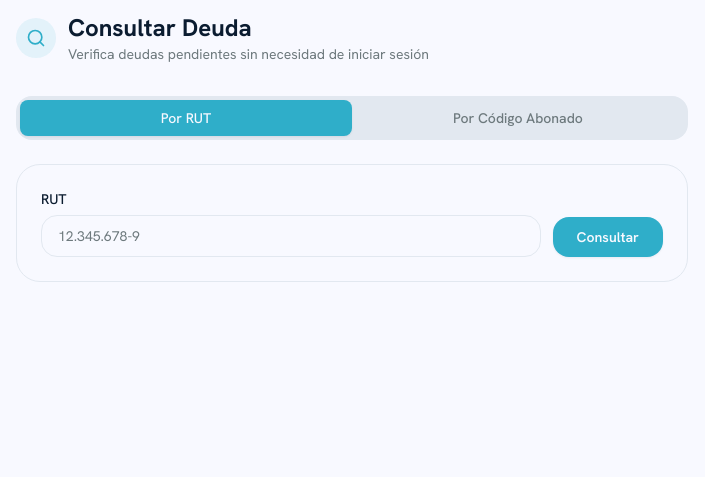
Test case: DeudaLookupForm (CU-39/CU-40) › muestra "no encontrado" si el RUT no existe (CU-39 Excepción 3)
This screenshot has width=705, height=477.
Type "99999999-9" into the field with placeholder "12.345.678-9". click: (291, 236)
box: left=41, top=215, right=540, bottom=257
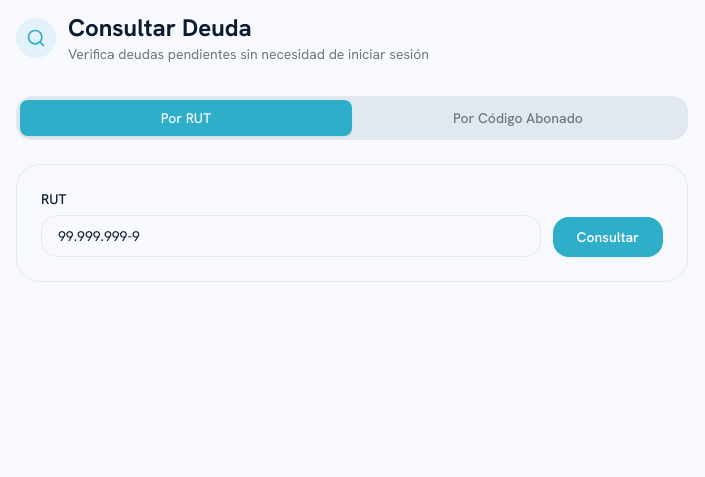
Click the button "Consultar". click: click(608, 237)
box: left=552, top=217, right=663, bottom=257
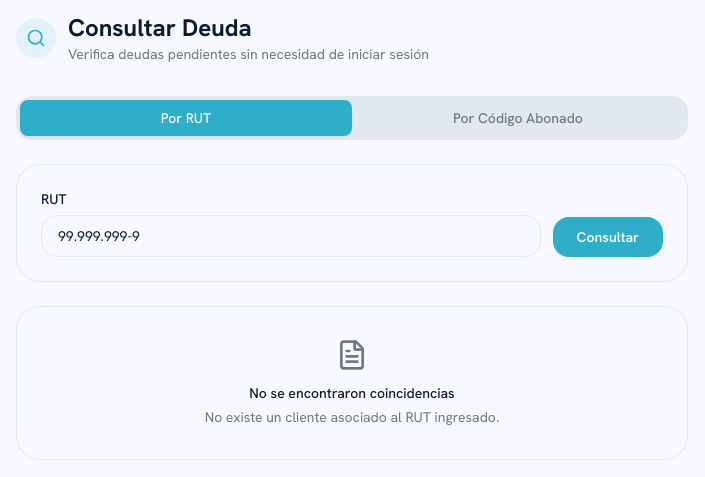
Check: the text "No se encontraron coincidencias" is shown, box left=249, top=384, right=455, bottom=402
